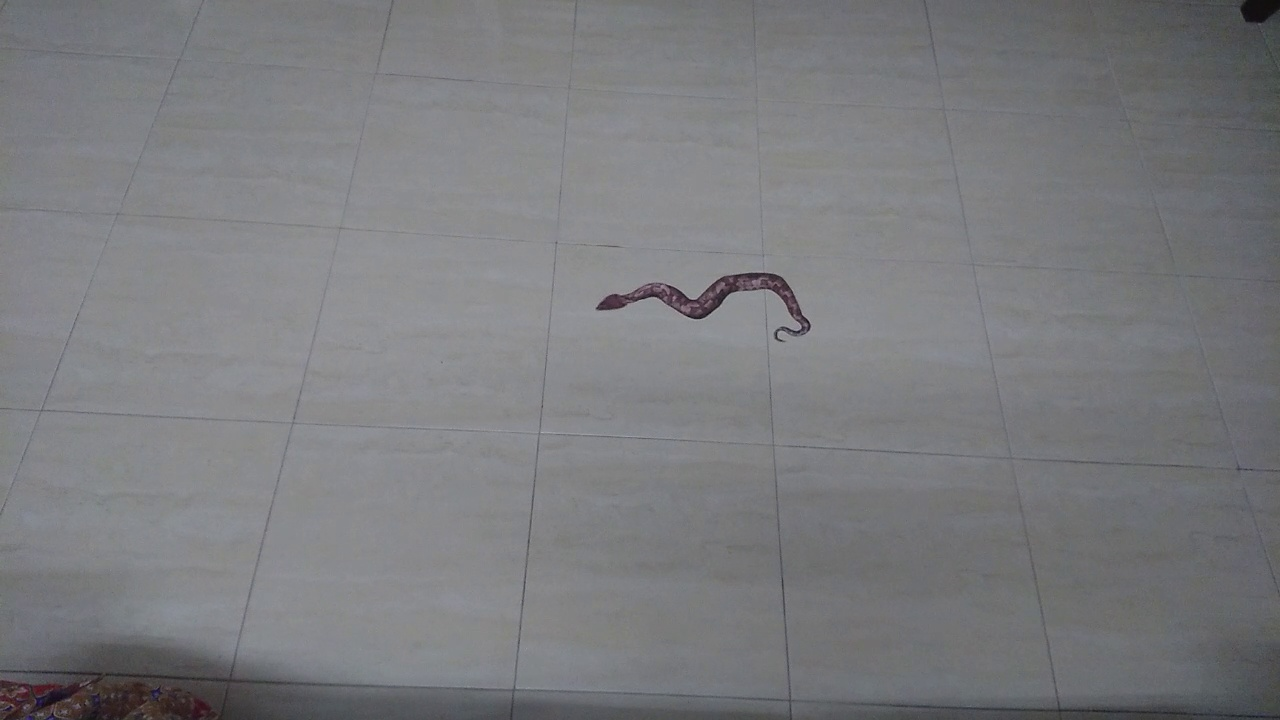snake: (578, 263, 822, 355)
